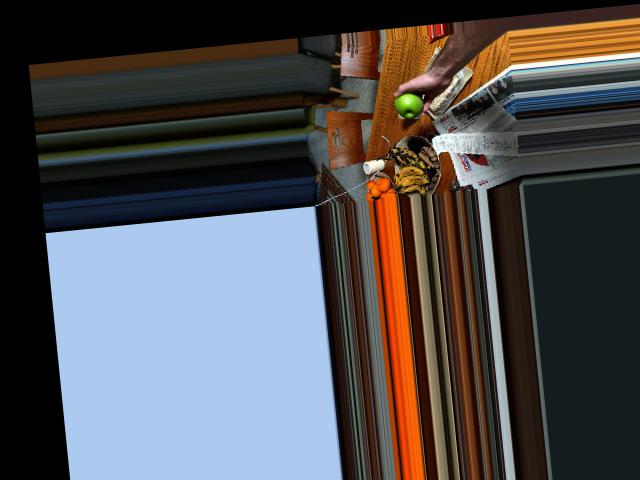apple: (391, 85, 427, 118)
